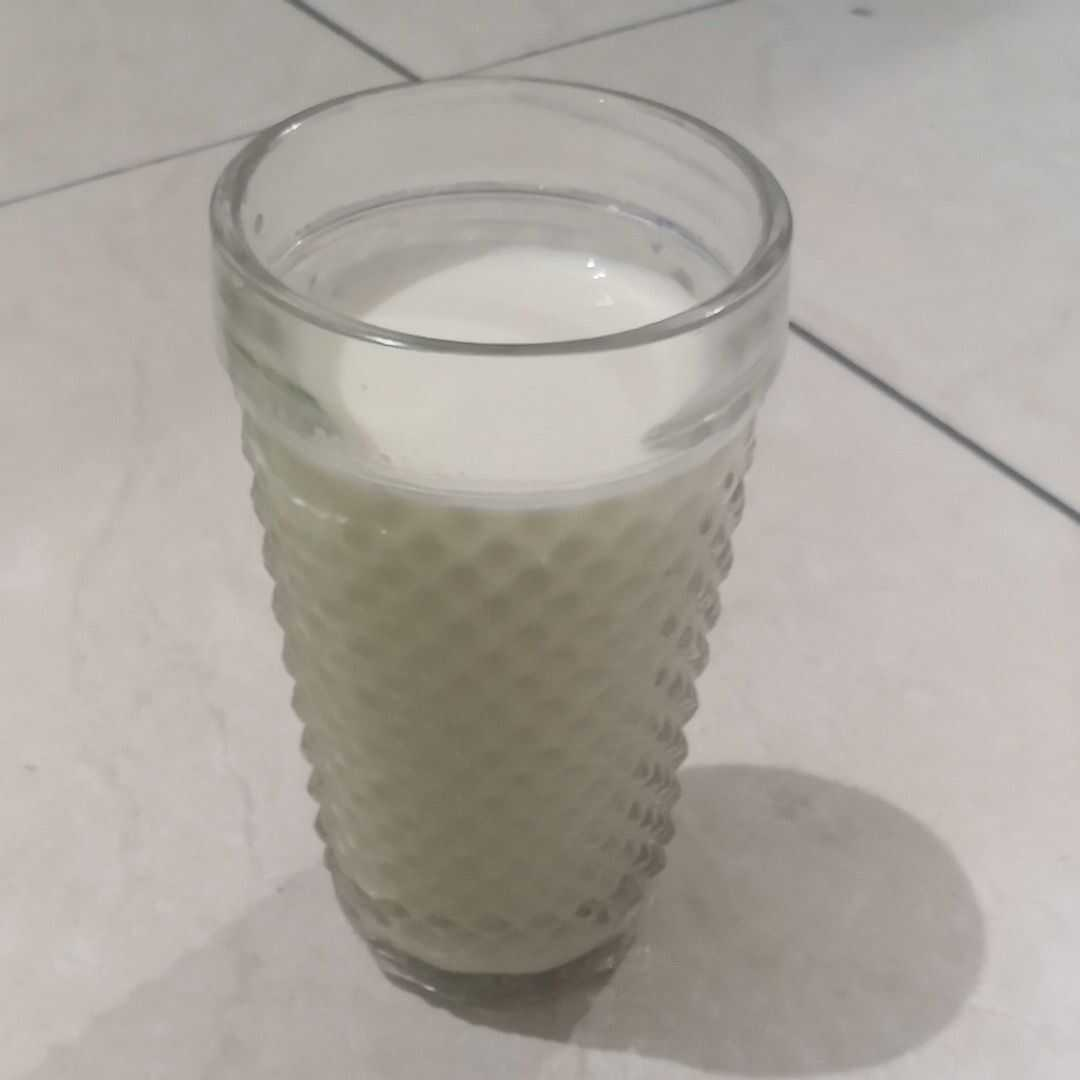produk_susu: (319, 153, 664, 913)
